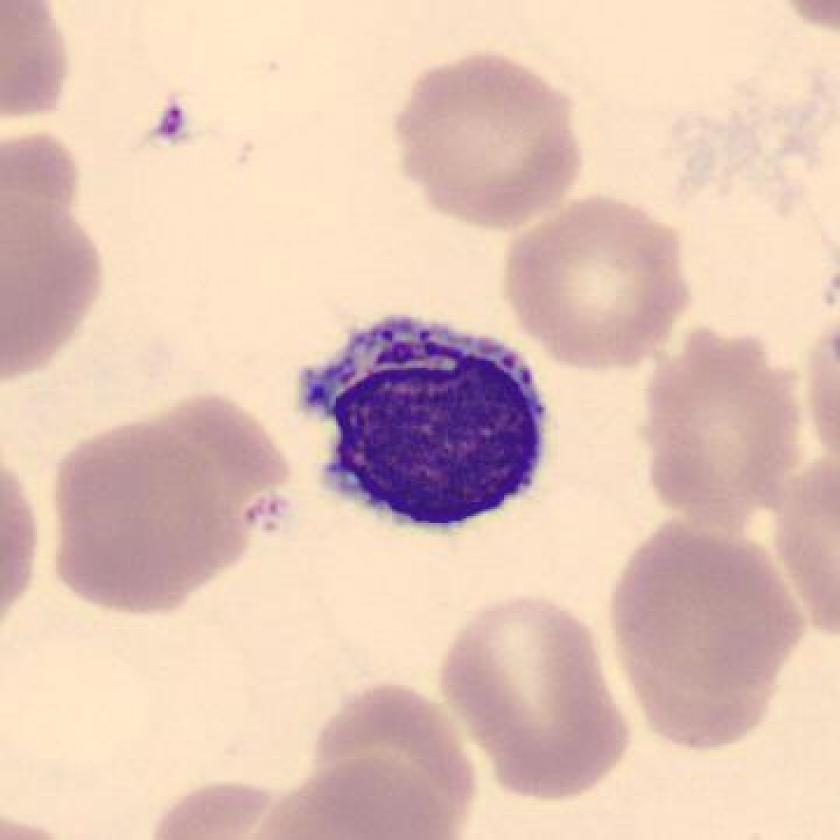lymphocyte: (276, 295, 568, 552)
